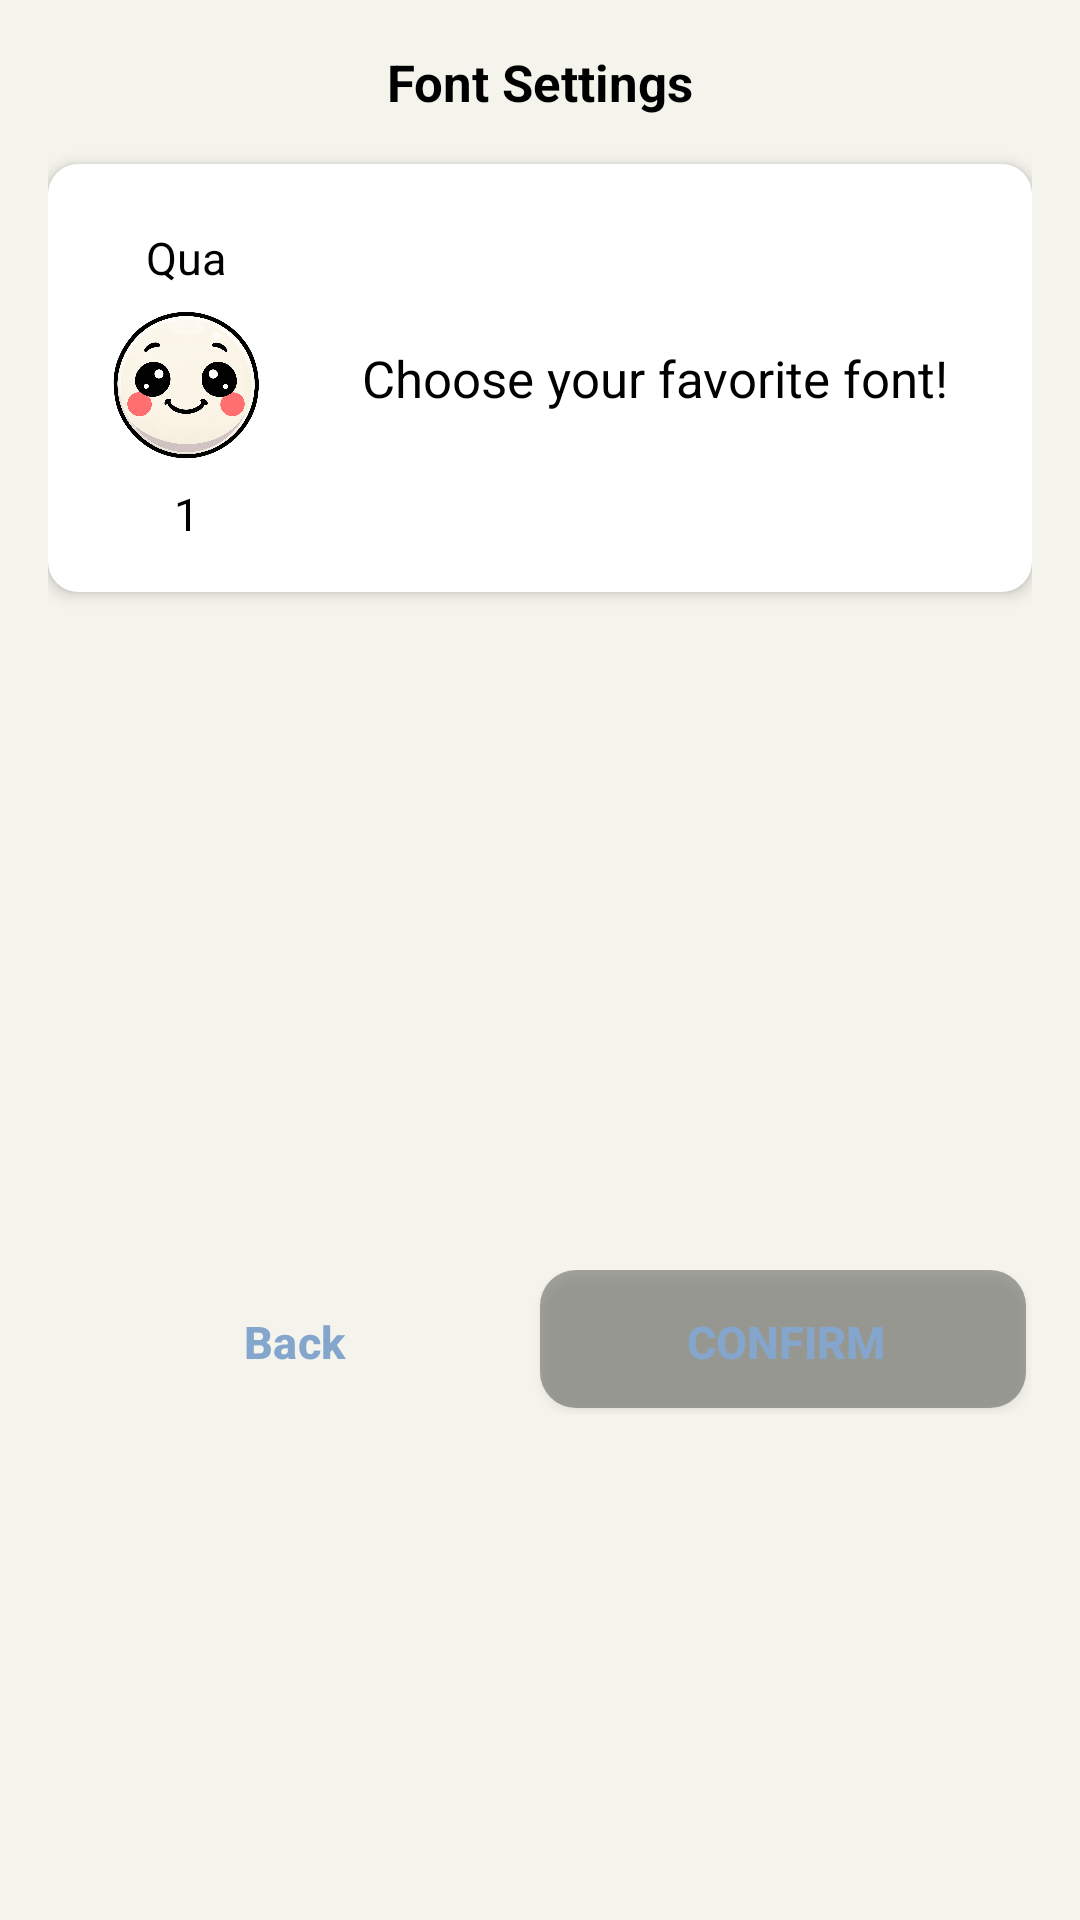

Where to tap for icons on this 1080x1920 app screen, as (x=x, y=y):
happy: (x=186, y=385)
